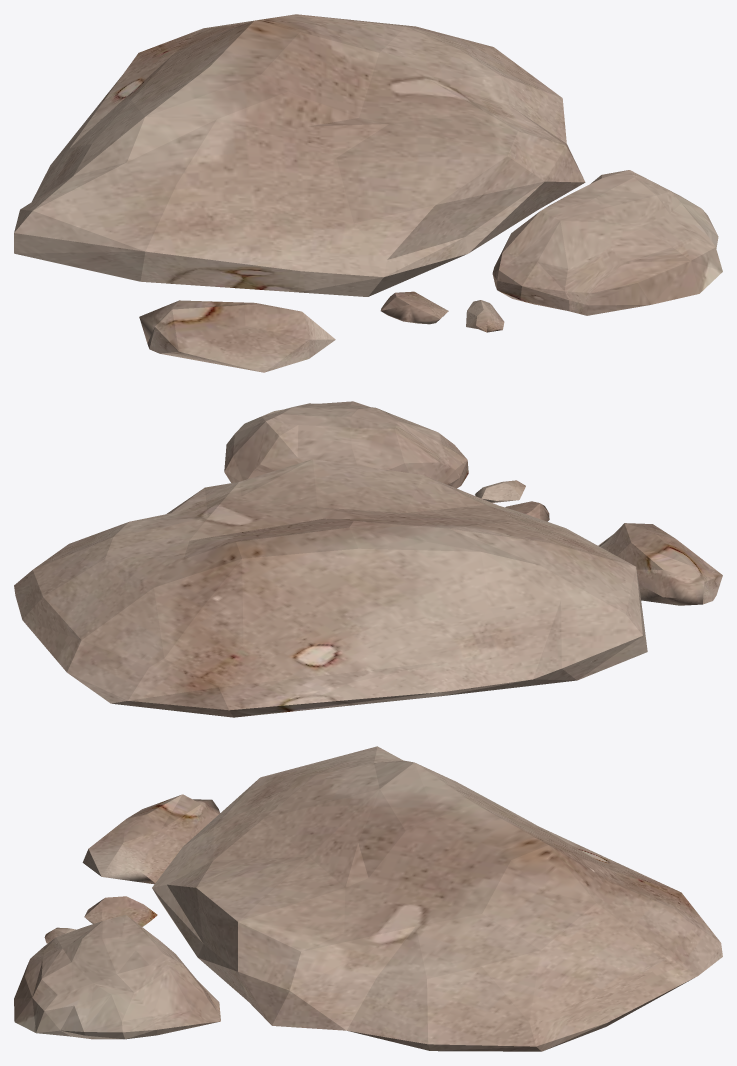
3 views of the same model, one above another, from view 1: azimuth 30°, elevation 25°; view 2: azimuth 150°, elevation 25°; view 3: azimuth 270°, elevation 25° (orthographic). The views are drawn at different scales.
Visible parts, largest first — view 1: body0_model0_lod0_mesh0; view 2: body0_model0_lod0_mesh0; view 3: body0_model0_lod0_mesh0.
Part boxes in pixels (x1=…): body0_model0_lod0_mesh0: x1=14, y1=14, x2=722, y2=372; body0_model0_lod0_mesh0: x1=14, y1=401, x2=722, y2=717; body0_model0_lod0_mesh0: x1=14, y1=746, x2=722, y2=1051.
Bounding box in the file's own units: 76.78 × 15.68 × 86.
Materials: 1 (1 with a texture image).
